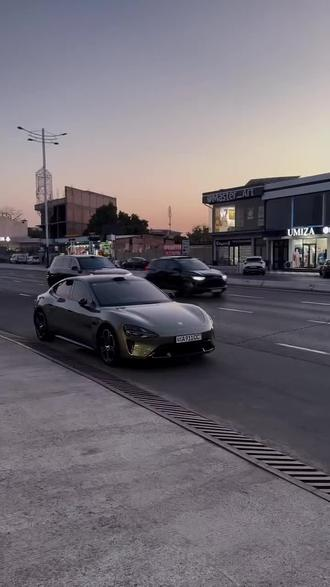other: (142, 254, 224, 298), (51, 255, 126, 283), (240, 255, 267, 275)
su7: (32, 273, 214, 367)
